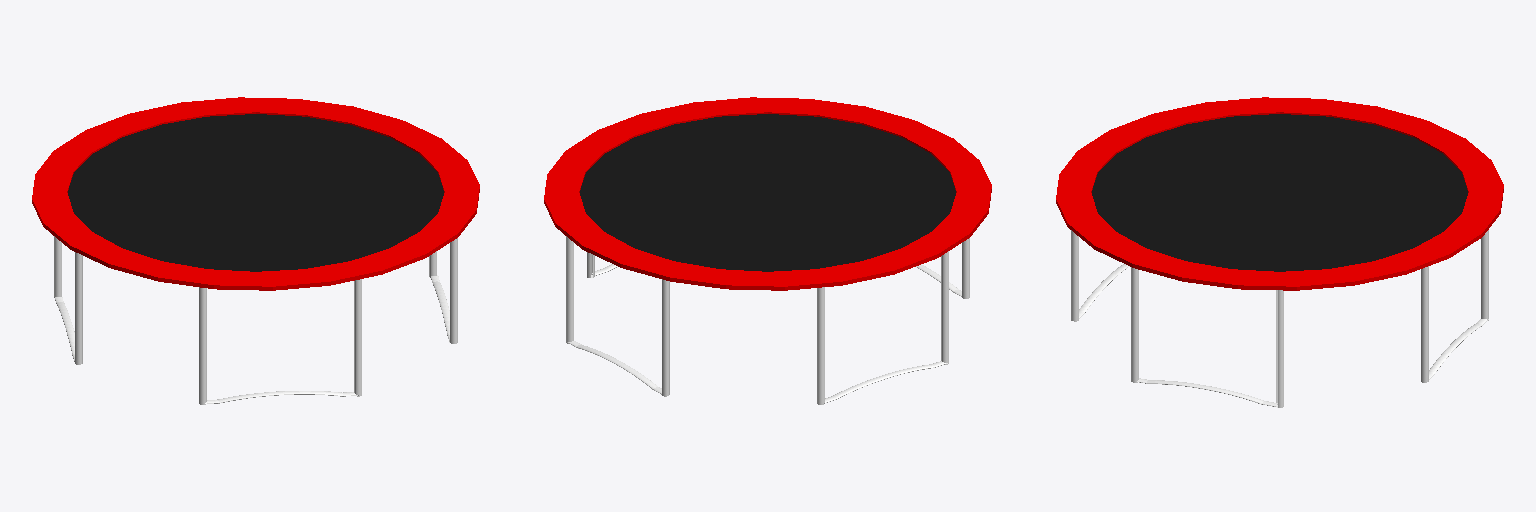
Rendered from trampoline.obj.
The picture shows the model from 3 angles: view 1: azimuth 30°, elevation 25°; view 2: azimuth 150°, elevation 25°; view 3: azimuth 270°, elevation 25°; orthographic projection.
Parts seen in each view (by area): view 1: Layer0_001, Group_001; view 2: Layer0_001, Group_001; view 3: Layer0_001, Group_001.
Part boxes in pixels (left/top/right/bottom): Layer0_001: left=32, top=97, right=479, bottom=290; Group_001: left=54, top=236, right=457, bottom=404; Layer0_001: left=544, top=97, right=991, bottom=290; Group_001: left=566, top=236, right=969, bottom=404; Layer0_001: left=1056, top=97, right=1503, bottom=290; Group_001: left=1071, top=230, right=1488, bottom=407.
Size of the model in its own units: 98.15 by 30.91 by 98.15.